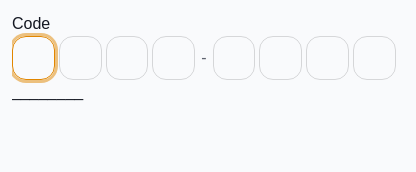
CodeInput › spreads a paste from the box it lands in
Click the field named "Character 2 of 8" at coordinates (80, 58), box 59,36 -> 102,80
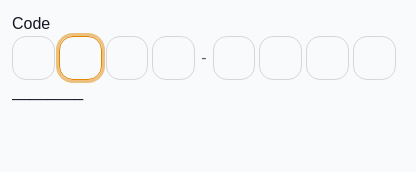
Type keys "wxyz-1234"
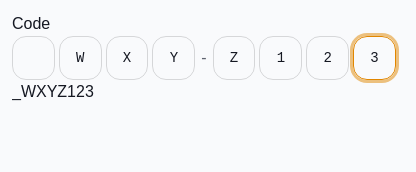
Expected: the text "_WXYZ123" is shown, 12,83 -> 94,100
